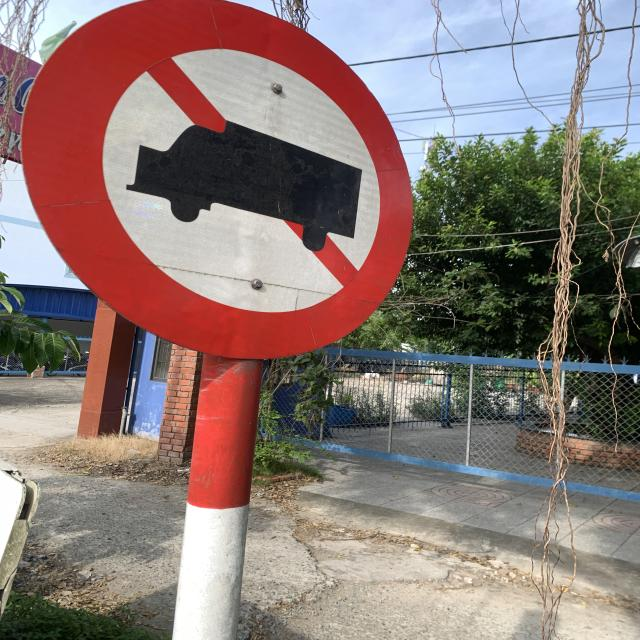Cam_Xe_Tai: (16, 0, 412, 364)
